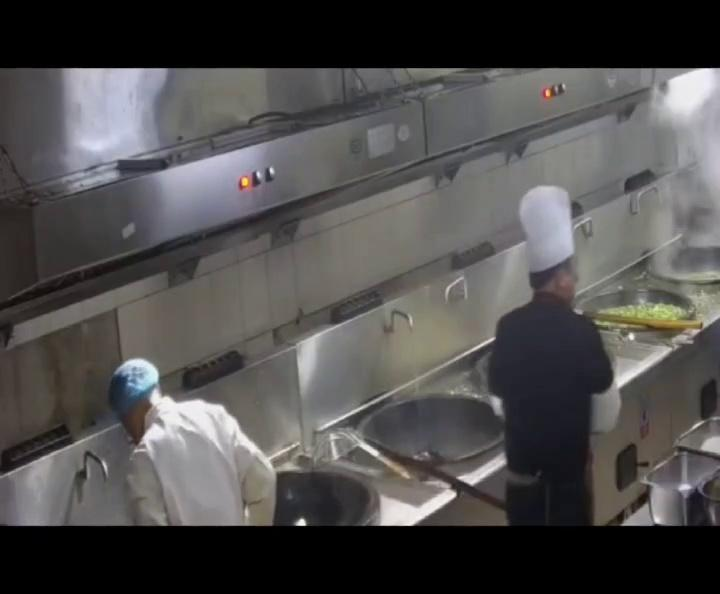gloves: (108, 356, 159, 412)
